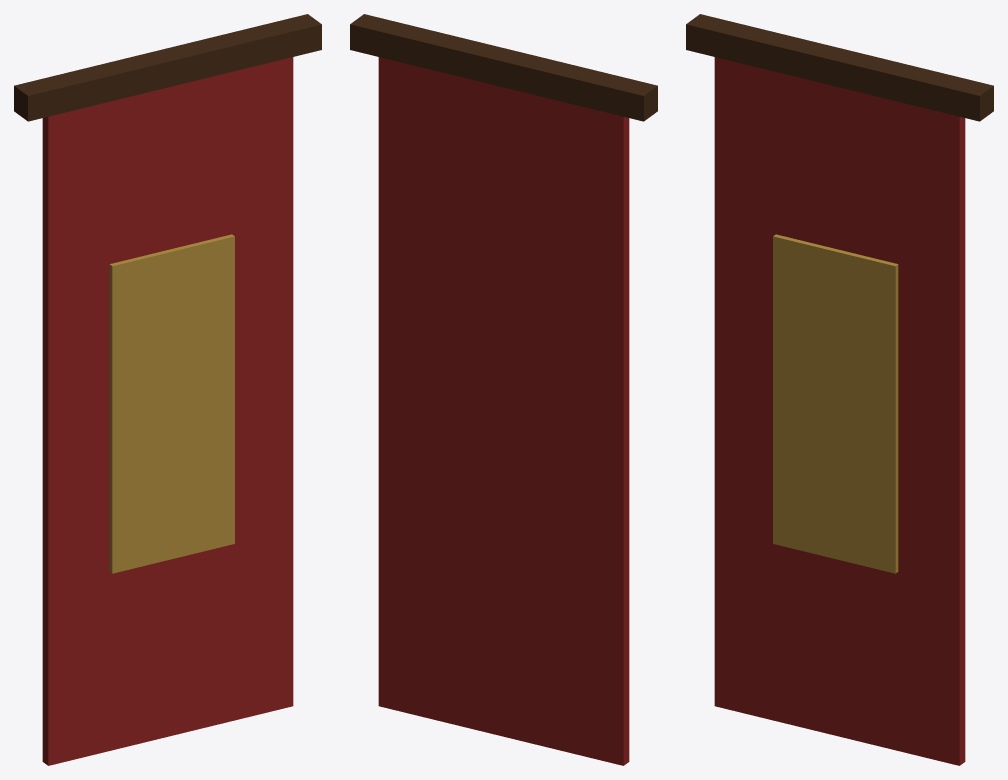
File: hall-banner.glb
3 renders of one model, left to right at view 1: azimuth 30°, elevation 25°; view 2: azimuth 150°, elevation 25°; view 3: azimuth 330°, elevation 25°, orthographic.
Parts seen in each view (by area): view 1: hall-banner; view 2: hall-banner; view 3: hall-banner.
Boxes of the visible parts, bbox=[...] form: hall-banner: bbox=[14, 14, 321, 765]; hall-banner: bbox=[350, 14, 657, 765]; hall-banner: bbox=[686, 14, 993, 765].
Bounding box in the file's own units: 1.2 × 2.65 × 0.1.
